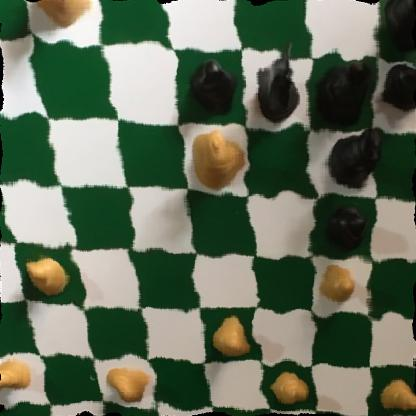black-bishop: (318, 51, 373, 124)
black-king: (320, 125, 385, 191)
black-knight: (249, 39, 306, 122)
black-pawn: (183, 55, 240, 117), (380, 54, 416, 114), (324, 207, 369, 251)
black-rook: (378, 0, 416, 55)
white-king: (209, 409, 263, 416)
white-pawn: (20, 250, 74, 295), (98, 360, 152, 399), (209, 315, 255, 360), (317, 263, 365, 306), (375, 374, 416, 416), (270, 369, 313, 407), (0, 354, 40, 391)
white-queen: (181, 126, 246, 195)
white-rook: (8, 0, 89, 33), (369, 412, 416, 416)
